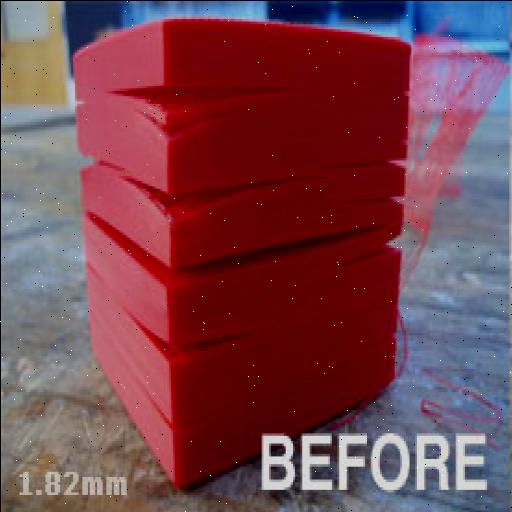cracks: (106, 68, 308, 154), (104, 176, 282, 248), (109, 308, 261, 386), (306, 212, 442, 270), (332, 148, 416, 183)
